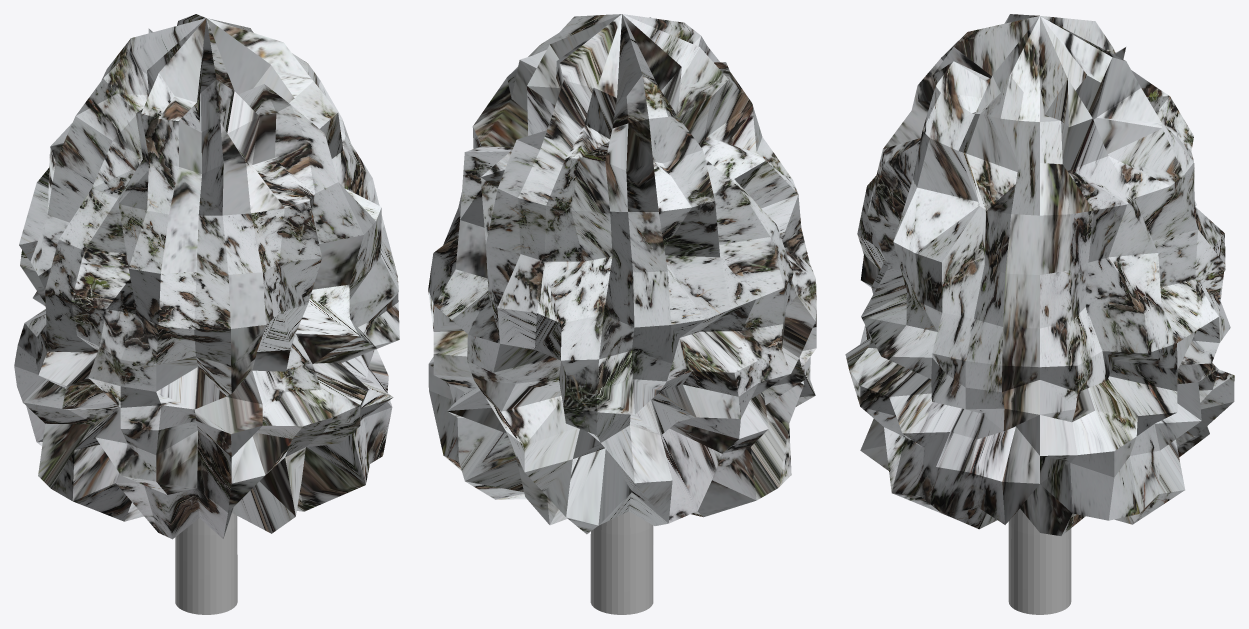
File: arbolNieveOk.fbx
3 views of the same model, side by side, from view 1: azimuth 30°, elevation 25°; view 2: azimuth 150°, elevation 25°; view 3: azimuth 270°, elevation 25° (orthographic).
Parts seen in each view (by area): view 1: Esfera, Cilindro; view 2: Esfera, Cilindro; view 3: Esfera, Cilindro.
Part boxes in pixels (left/top/right/bottom): Esfera: left=14, top=14, right=399, bottom=539; Cilindro: left=175, top=513, right=237, bottom=614; Esfera: left=428, top=14, right=816, bottom=534; Cilindro: left=590, top=511, right=653, bottom=614; Esfera: left=845, top=14, right=1234, bottom=535; Cilindro: left=1008, top=509, right=1071, bottom=614.
Size of the model in its own units: 1.53 by 2.55 by 1.53.
